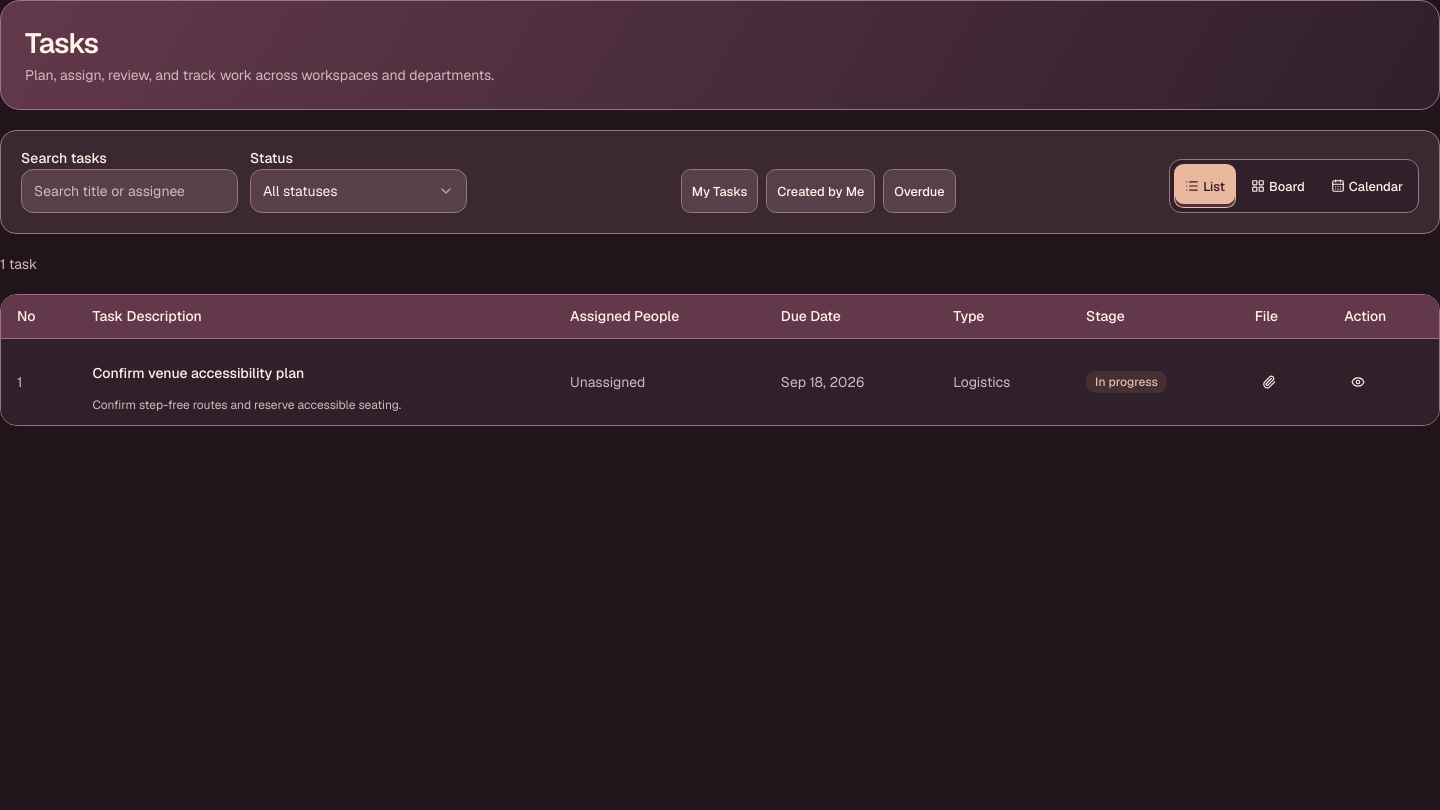
it: TasksManager › still shows assignee management to a Manager on a task they created themselves
Click the button "Confirm venue accessibility plan": (198, 373) [92,351,304,395]
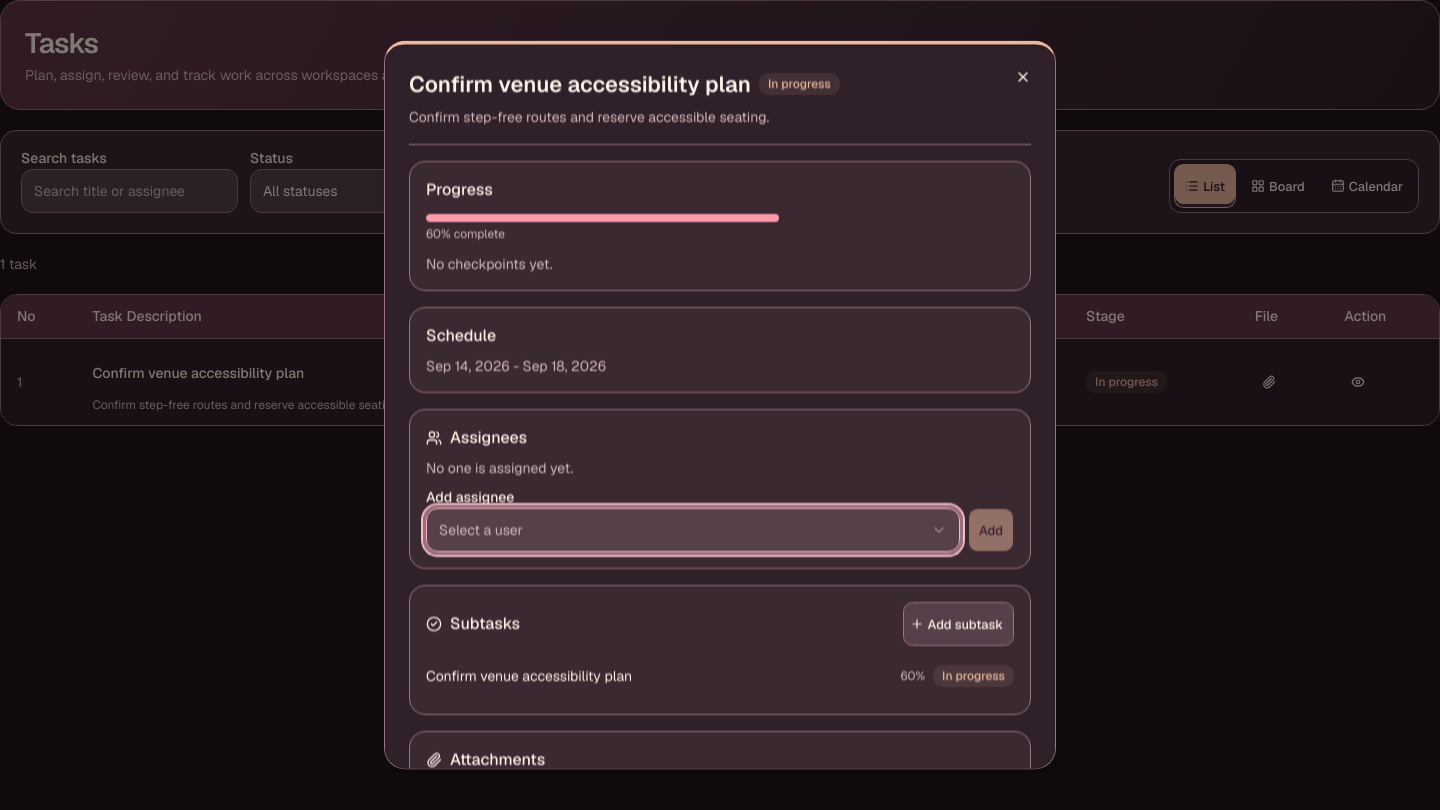
Result: the dialog is shown at [384,40,1056,770]
Result: the dropdown named "Add assignee" is shown at [426,508,960,552]
